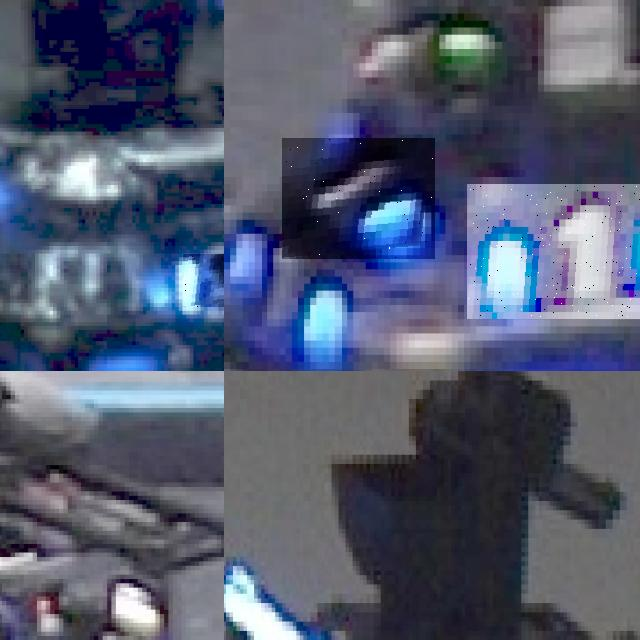B1: (467, 184, 640, 319), (224, 223, 359, 365), (283, 138, 437, 259)
Bs: (182, 253, 224, 307)
